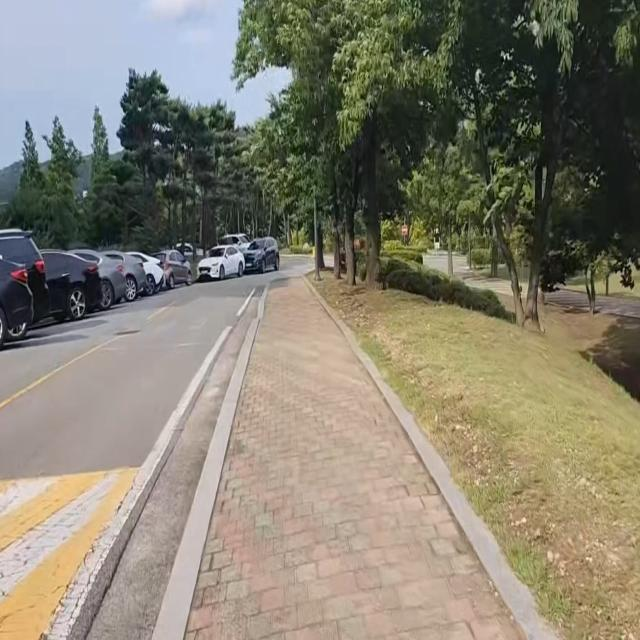obstacle: (0, 218, 196, 338), (196, 233, 283, 293)
road: (0, 273, 267, 640)
sidewalk: (161, 274, 557, 640)
